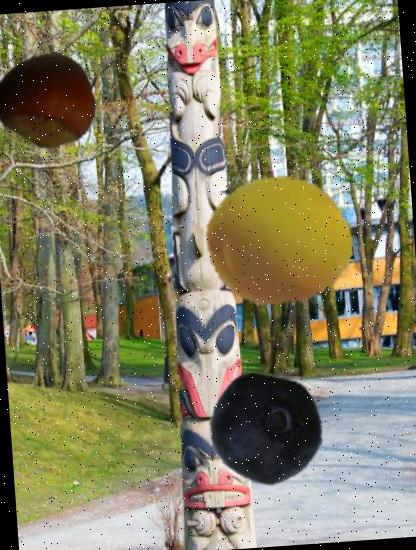Blueberry: (205, 368, 328, 492)
Nut: (0, 47, 100, 153)
Peach: (200, 159, 360, 319)
